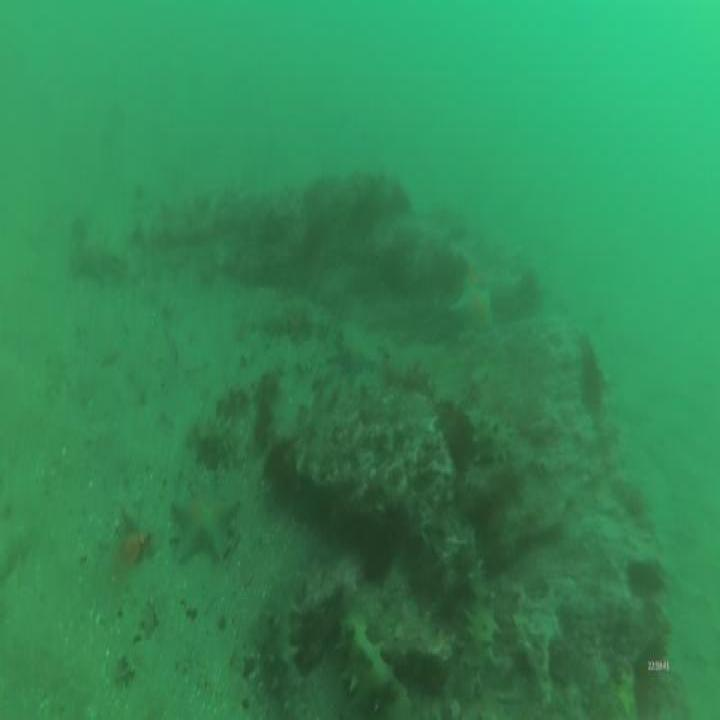echinus: (362, 526, 395, 585)
holothurian: (340, 613, 411, 720), (257, 567, 305, 720), (459, 574, 496, 697), (255, 292, 332, 338), (464, 407, 516, 466), (196, 407, 244, 459)
starfish: (174, 480, 239, 565), (454, 283, 496, 334)
